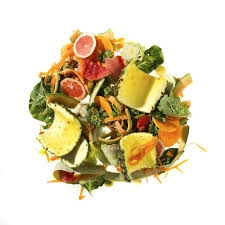kitchen_waste: (31, 102, 86, 170), (113, 59, 173, 118), (113, 129, 170, 188), (25, 75, 59, 127), (148, 114, 189, 146), (158, 94, 199, 122), (92, 93, 130, 120), (71, 33, 107, 61), (53, 74, 89, 102), (77, 56, 111, 84)
